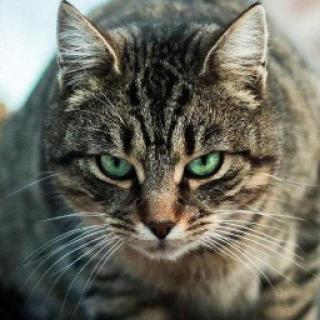cat: (46, 4, 280, 265)
nose: (145, 204, 180, 250)
